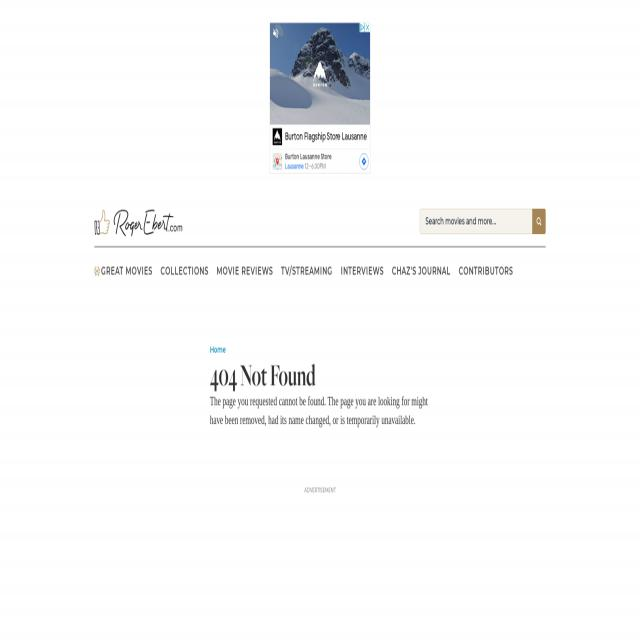button: (270, 22, 370, 172), (94, 208, 182, 238), (392, 256, 458, 286), (217, 256, 281, 286), (459, 256, 521, 286), (281, 256, 341, 286), (160, 256, 217, 286), (341, 256, 392, 286), (94, 260, 156, 284), (532, 208, 546, 234), (359, 23, 365, 32), (365, 22, 370, 32)
field: (420, 208, 532, 234)
